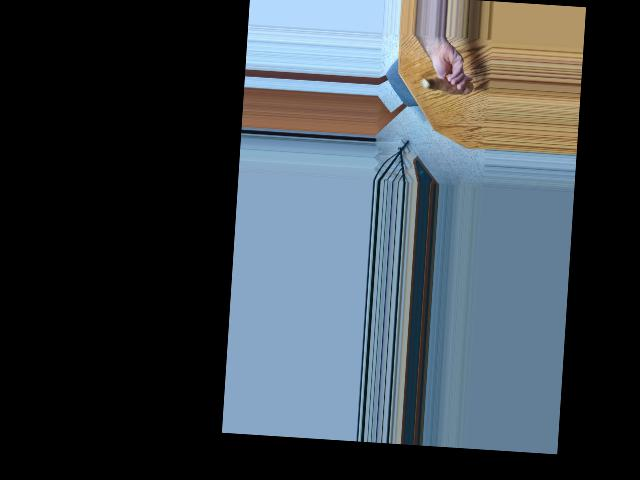sweet_potato: (420, 72, 472, 95)
